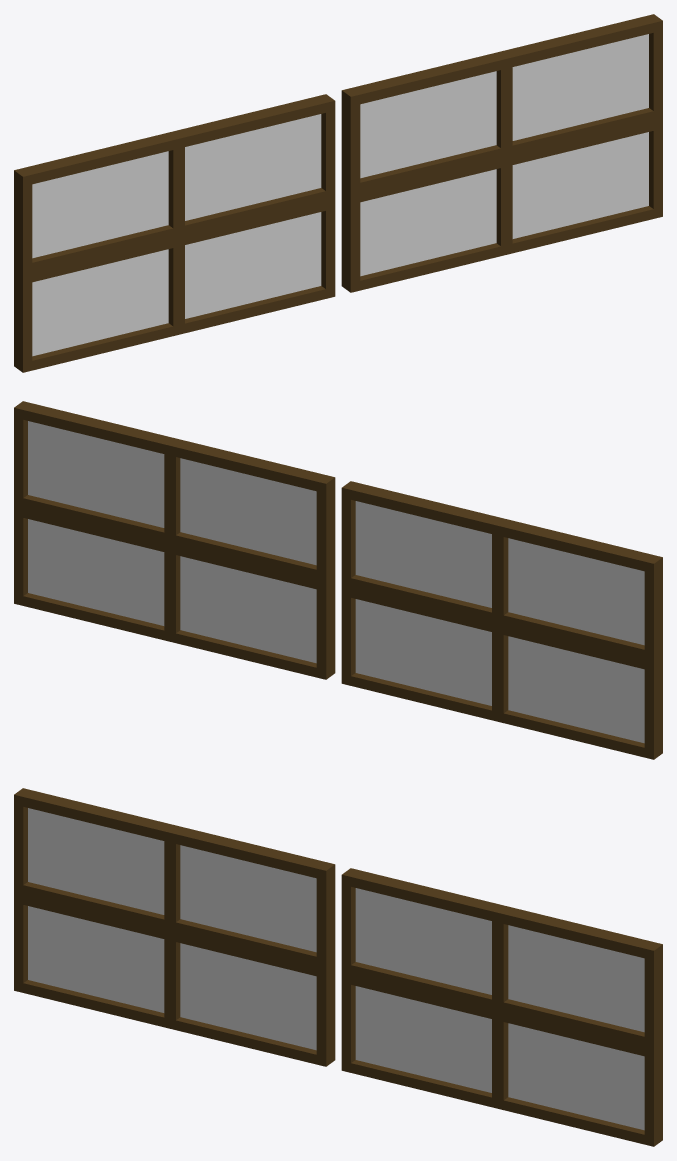
The model's file is window.fbx.
3 renders of one model, top to bottom at view 1: azimuth 30°, elevation 25°; view 2: azimuth 150°, elevation 25°; view 3: azimuth 330°, elevation 25°, orthographic.
Parts seen in each view (by area): view 1: window; view 2: window; view 3: window.
Boxes of the visible parts, x1,y1,x2,y2 form: window: (14,14,662,372); window: (14,401,662,759); window: (14,788,662,1146).
Bounding box in the file's own units: 410 × 10 × 120.
